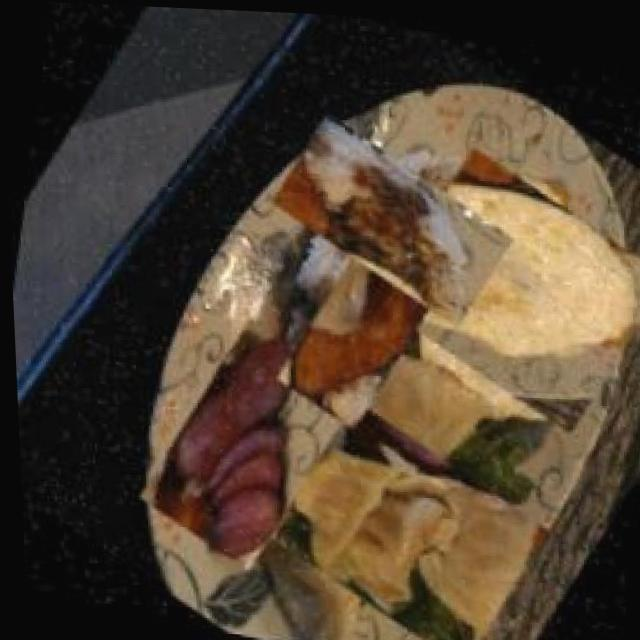chinese_sausage: (118, 297, 373, 590)
fried_dumplings: (176, 316, 552, 640)
fried_eggs: (354, 119, 640, 447)
rice: (263, 89, 519, 346)
triangle_hash_brown: (261, 232, 443, 443)
